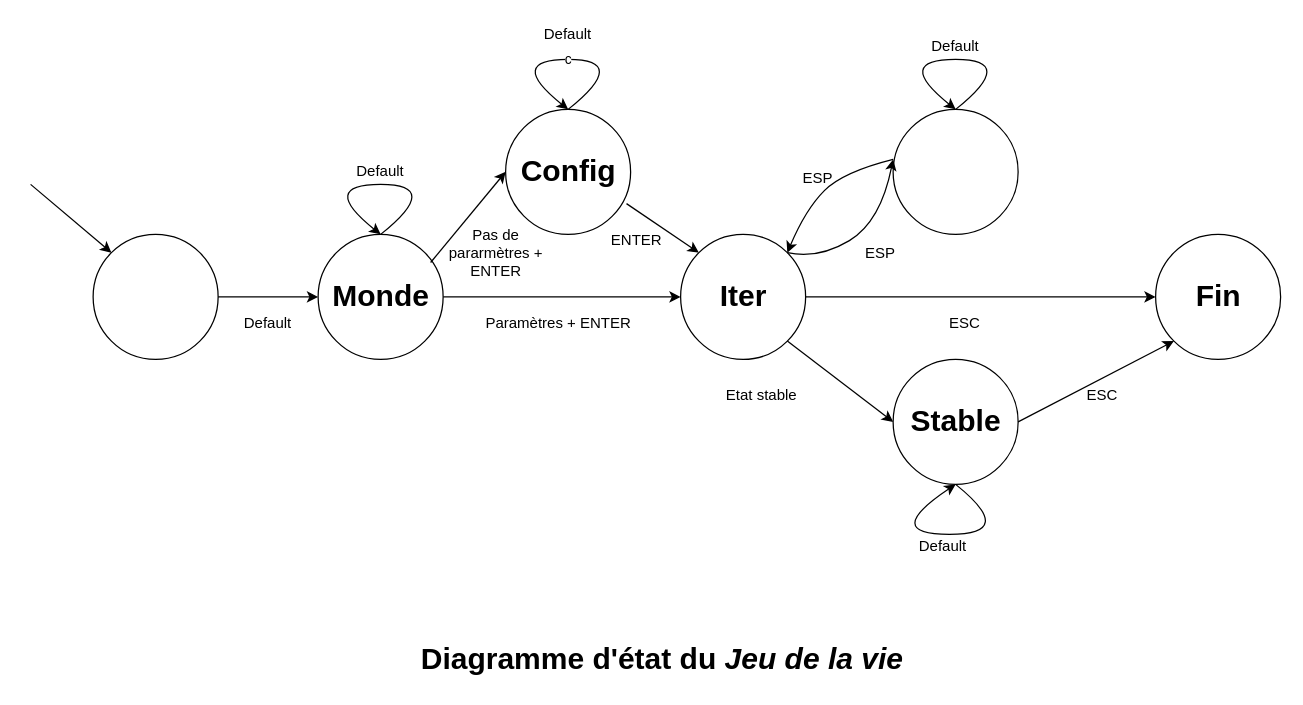
The diagram is 1303 pixels wide and 705 high, and some of its shapes have lost their labels. The centre of each missing label's shape, as x and y in pixels:
"Init" goes at (155,296).
"Pause" goes at (955,171).
